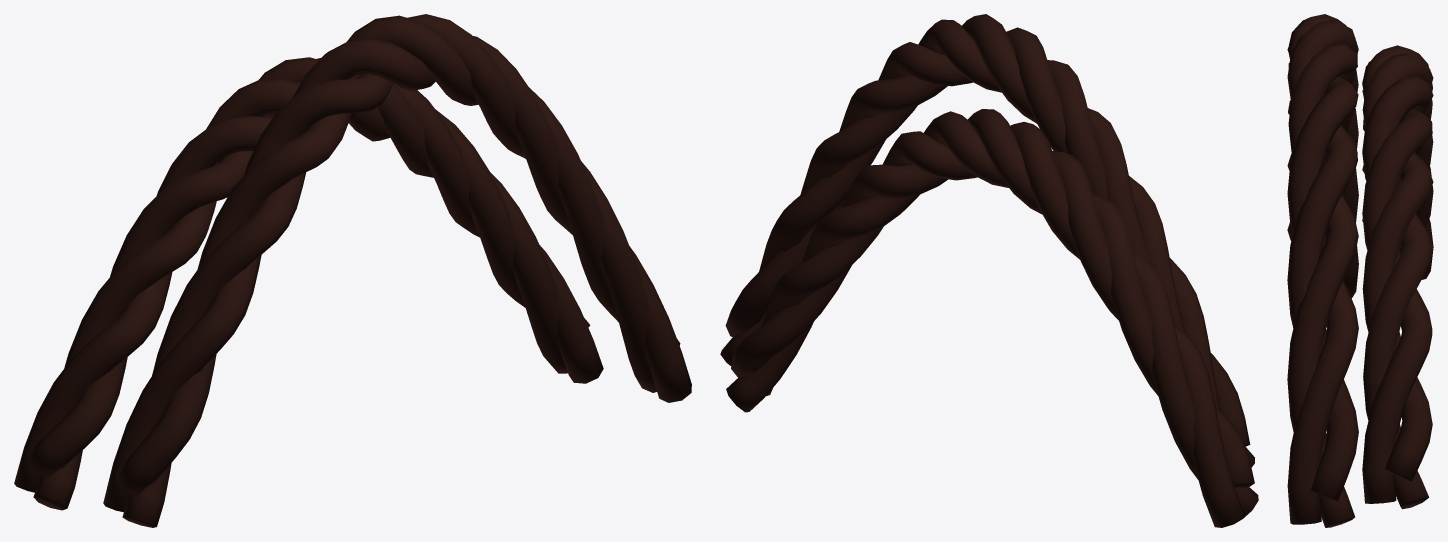
The model's file is licorice-vine.glb.
3 renders of one model, left to right at view 1: azimuth 30°, elevation 25°; view 2: azimuth 150°, elevation 25°; view 3: azimuth 270°, elevation 25°, orthographic. The views are drawn at different scales.
Parts seen in each view (by area): view 1: Twisted chocolate rope.005, Twisted chocolate rope.004, Twisted chocolate rope.003, Twisted chocolate rope.002, Twisted chocolate rope.001, Twisted chocolate rope; view 2: Twisted chocolate rope.002, Twisted chocolate rope, Twisted chocolate rope.001, Twisted chocolate rope.003, Twisted chocolate rope.004, Twisted chocolate rope.005; view 3: Twisted chocolate rope.004, Twisted chocolate rope.001, Twisted chocolate rope.005, Twisted chocolate rope.003, Twisted chocolate rope, Twisted chocolate rope.002.
Part boxes in pixels (x1,y1,x2,y2): Twisted chocolate rope.005: (103,14,656,512); Twisted chocolate rope.004: (122,36,691,527); Twisted chocolate rope.003: (116,15,680,496); Twisted chocolate rope.002: (14,58,567,492); Twisted chocolate rope.001: (33,78,603,510); Twisted chocolate rope: (27,57,590,478); Twisted chocolate rope.002: (726,111,1244,527); Twisted chocolate rope: (731,109,1254,487); Twisted chocolate rope.001: (762,122,1258,517); Twisted chocolate rope.003: (725,14,1250,446); Twisted chocolate rope.004: (759,27,1254,467); Twisted chocolate rope.005: (720,19,1221,411); Twisted chocolate rope.004: (1287,14,1358,524); Twisted chocolate rope.001: (1362,45,1433,503); Twisted chocolate rope.005: (1287,44,1358,527); Twisted chocolate rope.003: (1287,20,1358,501); Twisted chocolate rope: (1362,53,1433,481); Twisted chocolate rope.002: (1362,61,1433,509).
Size of the model in its own units: 2.86 by 1.97 by 0.666.
